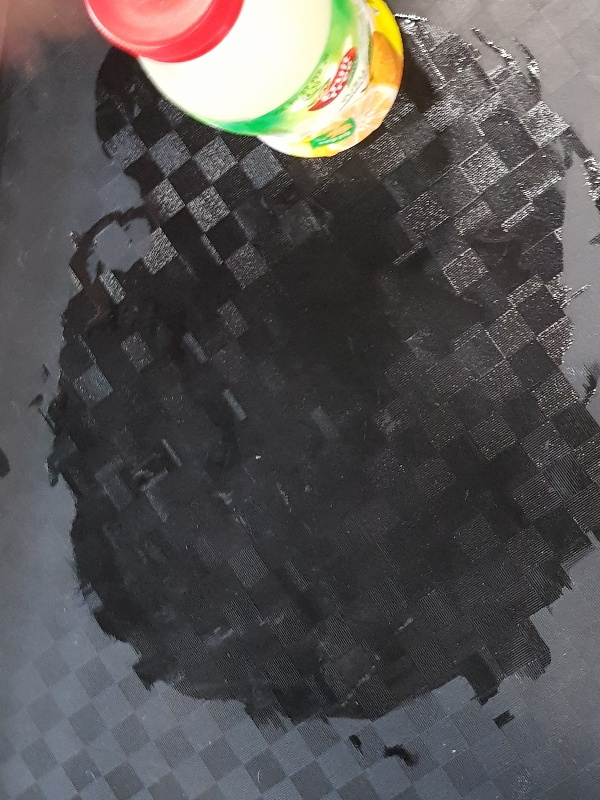Fruit Tree Yuzu Mixed Juice Drink: (82, 1, 407, 160)
